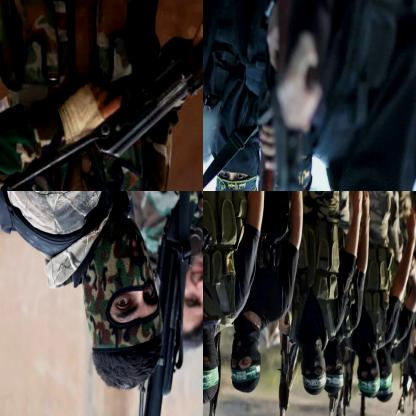rifle: (0, 0, 202, 190), (130, 191, 202, 415), (276, 144, 351, 190), (273, 311, 296, 415), (250, 118, 280, 190), (203, 336, 228, 415), (321, 390, 336, 415)
